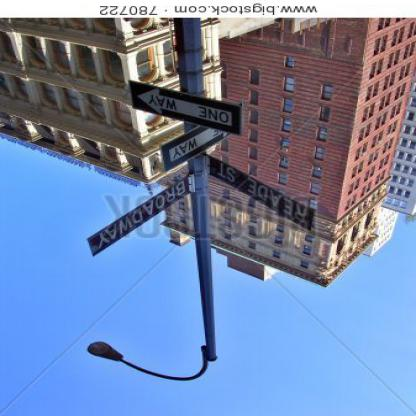Streetlights 1: (35, 1, 292, 408)
